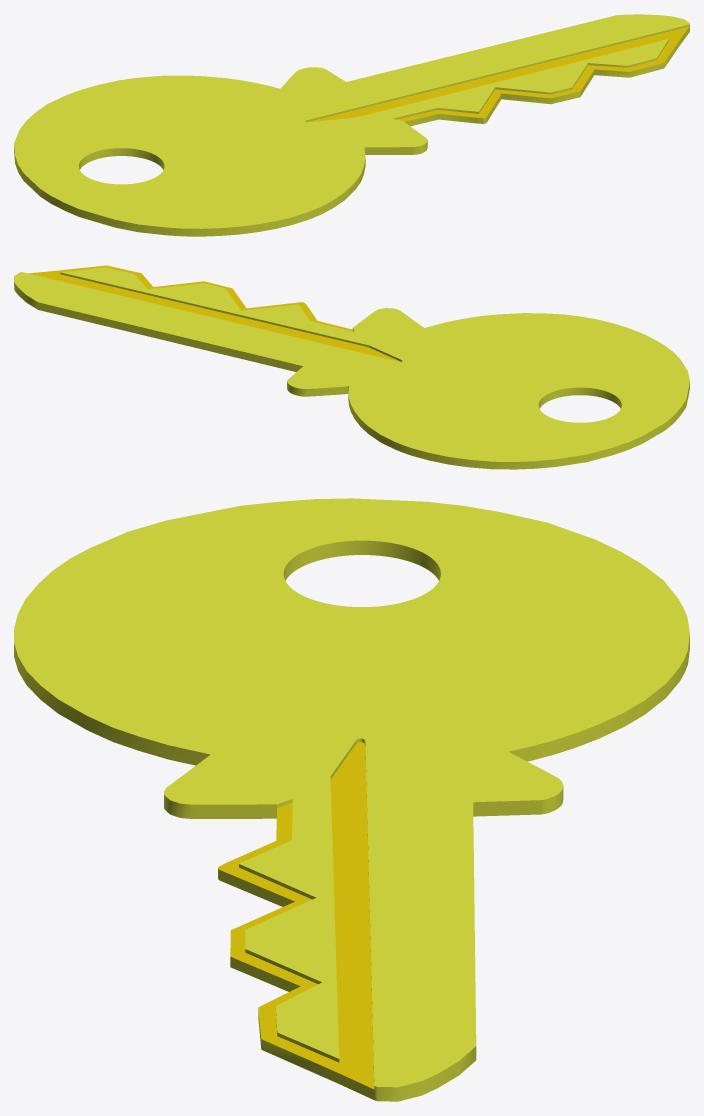
File: llave1.glb
3 views of the same model, one above another, from view 1: azimuth 30°, elevation 25°; view 2: azimuth 150°, elevation 25°; view 3: azimuth 270°, elevation 25° (orthographic). The views are drawn at different scales.
Parts seen in each view (by area): view 1: Plane; view 2: Plane; view 3: Plane.
Part boxes in pixels (x1,y1,x2,y2): Plane: (14,14,689,236); Plane: (14,265,689,469); Plane: (14,498,689,1101).
Bounding box in the file's own units: 9.42 × 0.1071 × 4.57.
